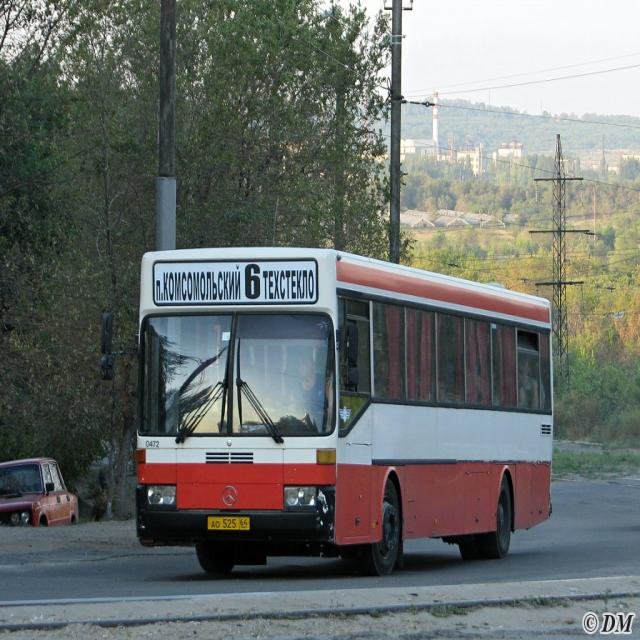number-of-bus: (240, 255, 266, 314)
